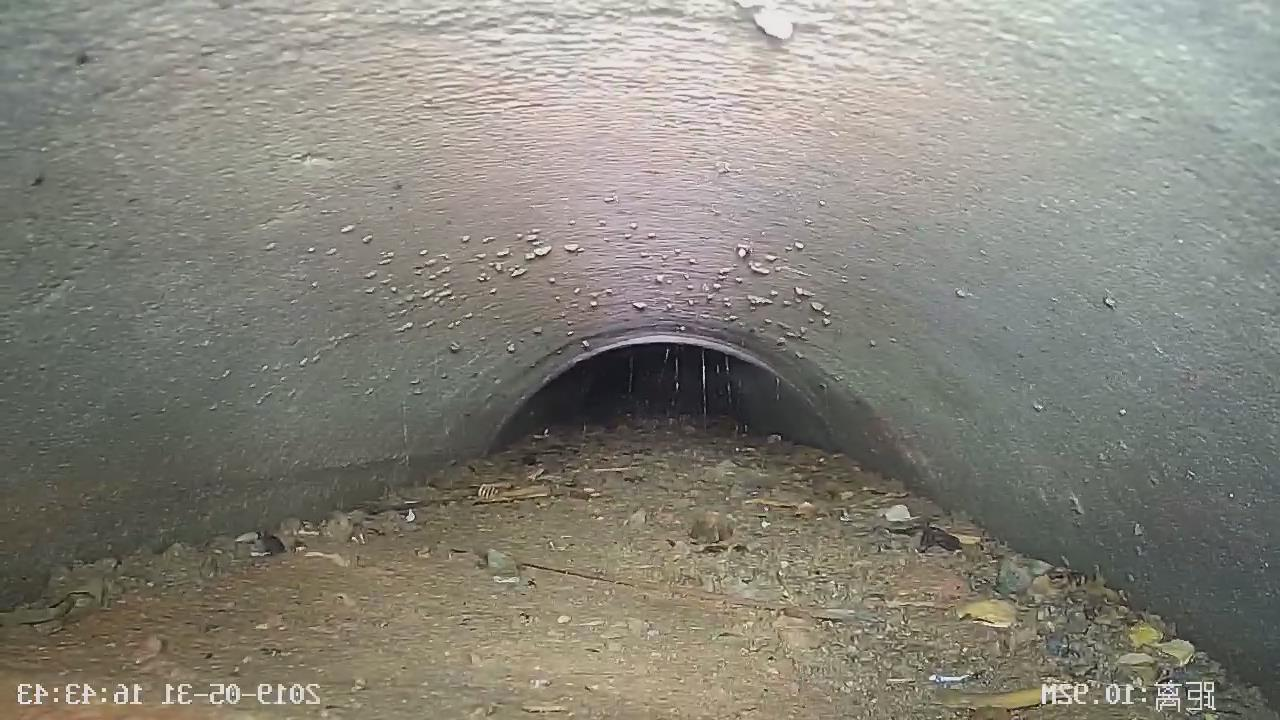CJ: (1, 416, 1264, 719)
CKTJ: (469, 325, 844, 471)
